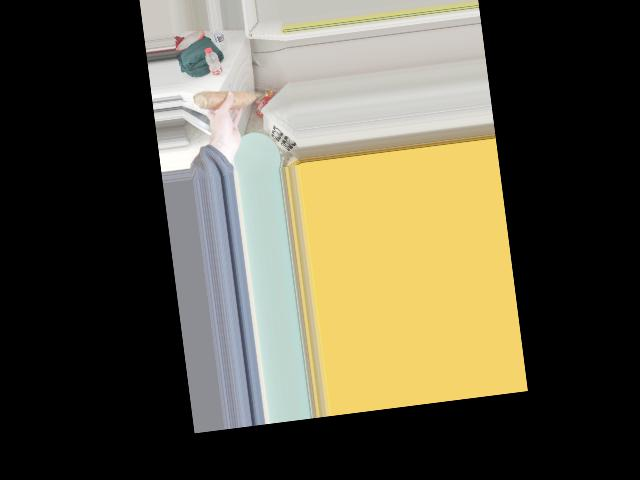sweet_potato: (202, 91, 256, 112)
